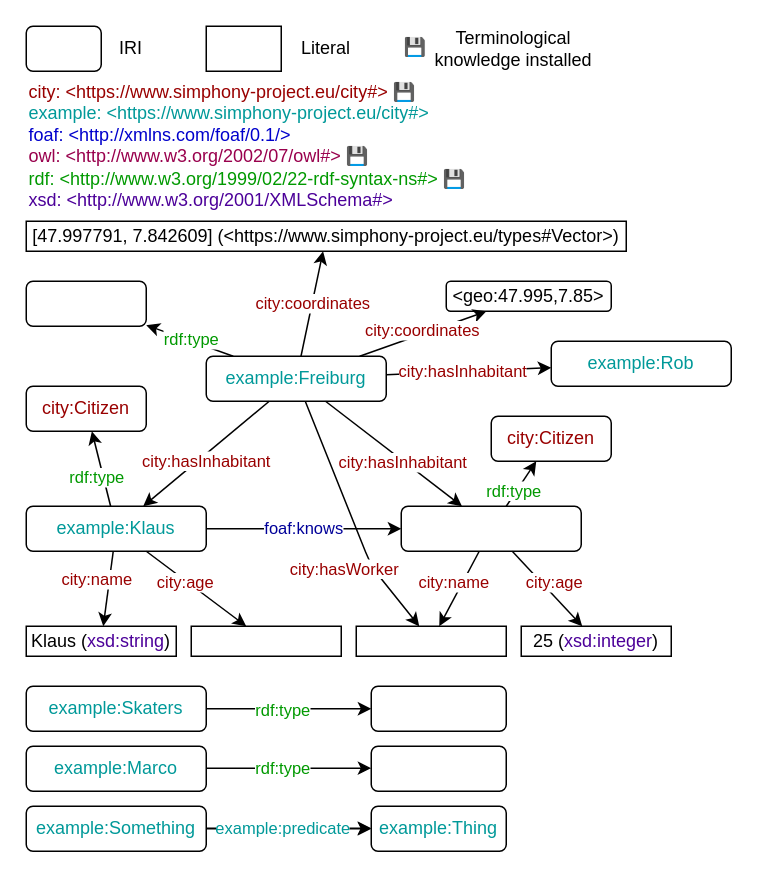
The diagram is 758 pixels wide and 878 high, and some of its shapes have lost their labels. The box of each missing label's shape, as (x1, y1, x2, y2) in pixels:
23 ( xsd:integer ): (190, 625, 341, 656)
city:City: (25, 280, 146, 326)
example:Lena: (400, 505, 581, 551)
foaf:Person: (370, 745, 506, 791)
Lena ( xsd:string ): (355, 625, 506, 656)
owl:Class: (370, 685, 506, 731)
